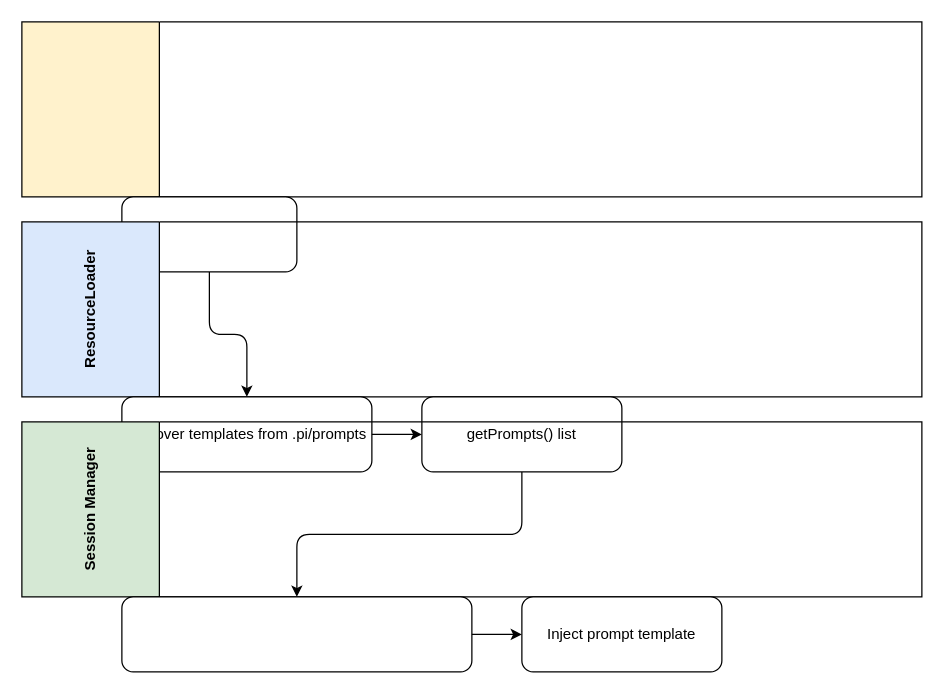
Some shapes in this 944 by 694 pixel diagram are drawn without their labels. The centre of each missing label's shape, as x and y in pixels:
Create session with model, thinkingLevel, settings, credentials: the point at 296,634
Input /template: the point at 209,234
User: the point at 471,109
